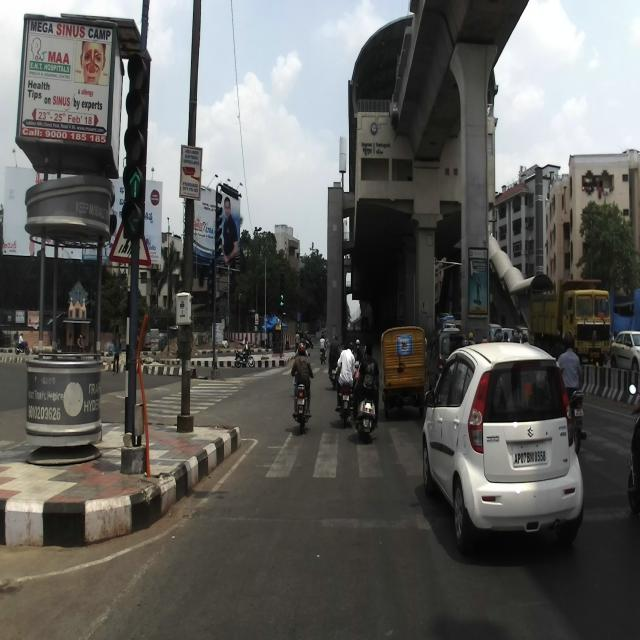car: (422, 341, 584, 555)
motorcycle: (291, 365, 314, 435)
scooter: (357, 391, 376, 441)
